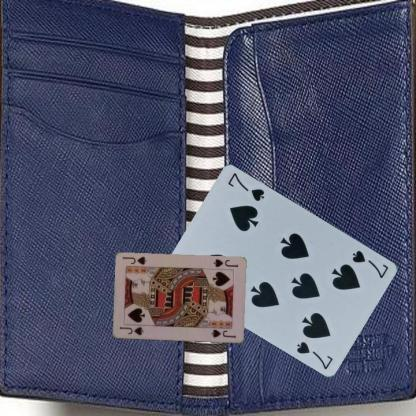7s: (350, 247, 390, 280)
Js: (117, 324, 144, 336), (211, 257, 239, 268)
